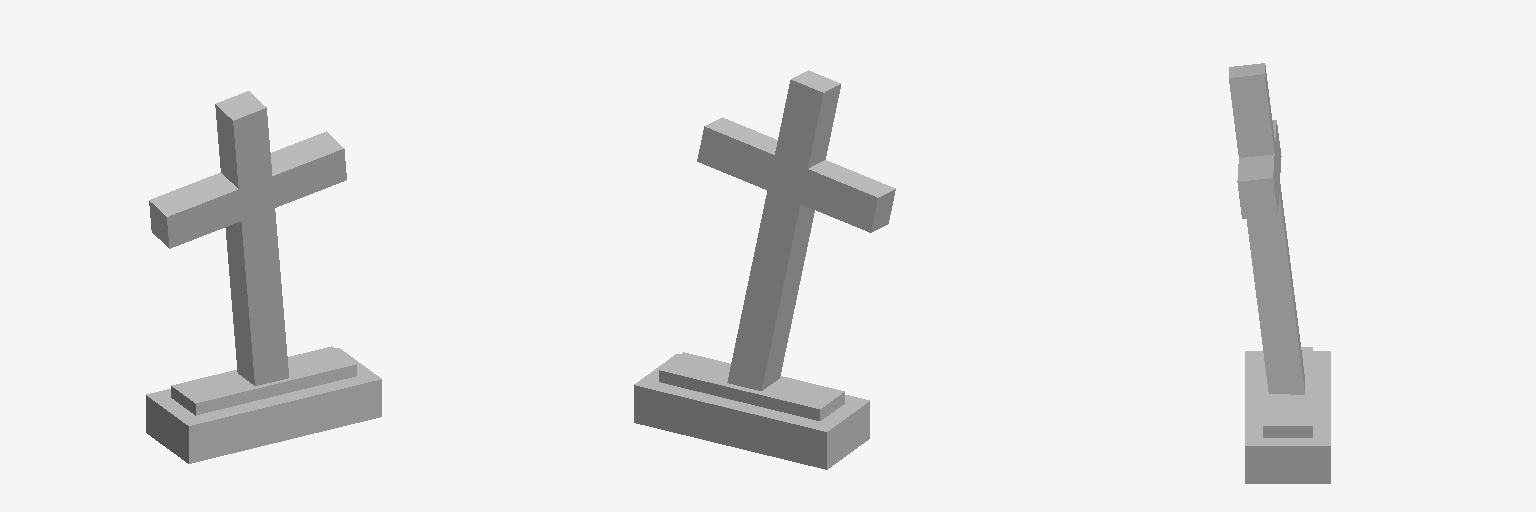
Rendered from Tombstone_1.obj.
The picture shows the model from 3 angles: view 1: azimuth 30°, elevation 25°; view 2: azimuth 150°, elevation 25°; view 3: azimuth 270°, elevation 25°; orthographic projection.
Parts seen in each view (by area): view 1: Tombstone_02; view 2: Tombstone_02; view 3: Tombstone_02.
Part boxes in pixels (x1,y1,x2,y2): Tombstone_02: (146,91,381,463); Tombstone_02: (634,70,895,469); Tombstone_02: (1229,63,1330,483).
Bounding box in the file's own units: 12.84 × 19.72 × 5.25.